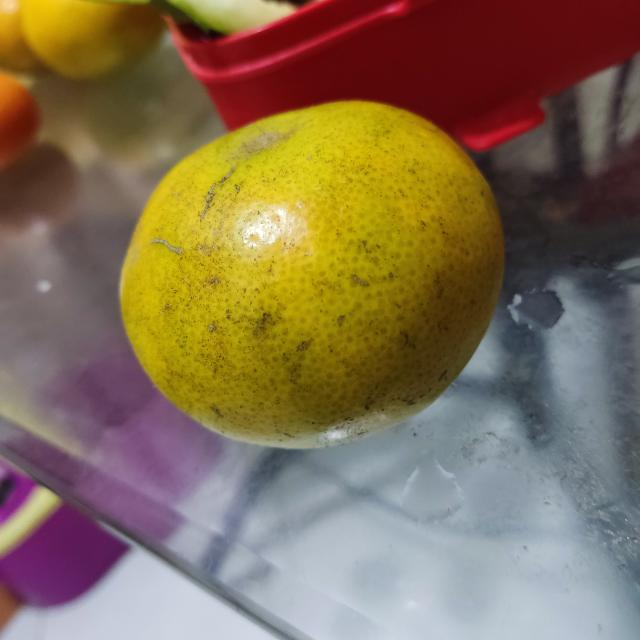orange: (118, 97, 506, 454)
